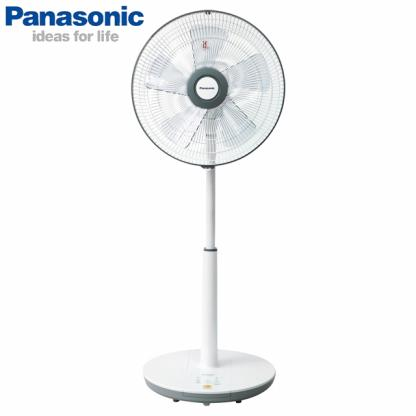fan: (129, 7, 290, 412)
